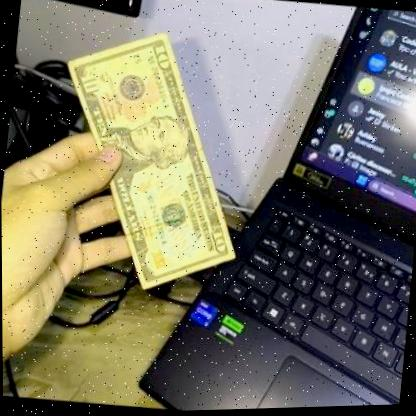dollar_front: (46, 18, 263, 302)
